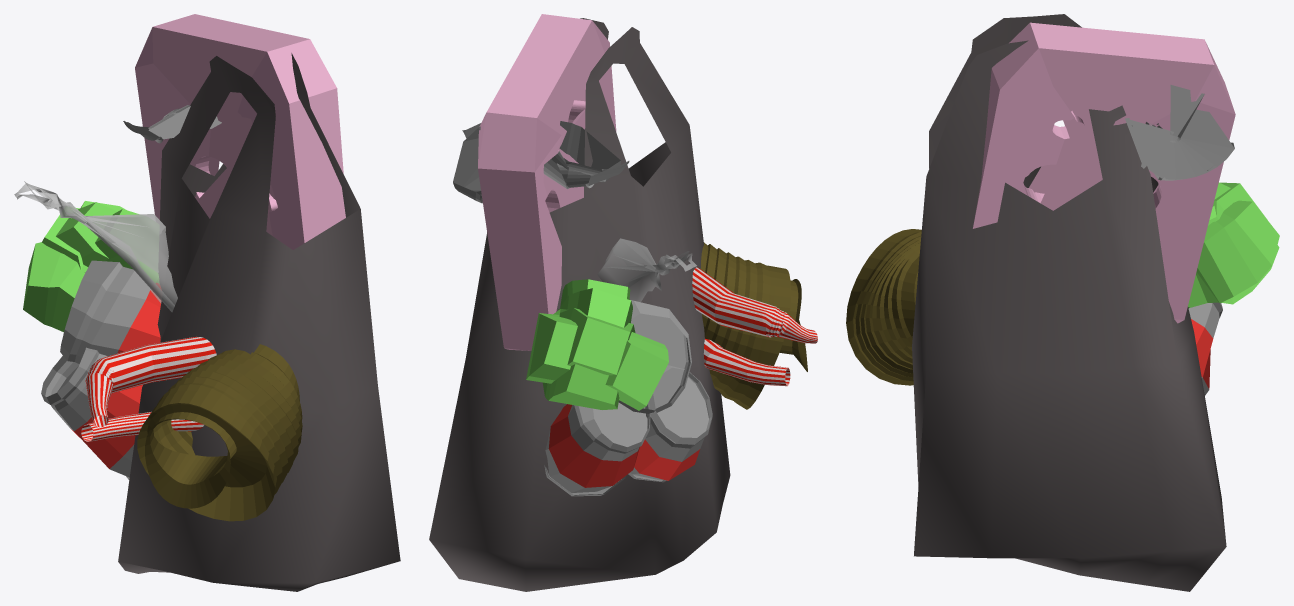
The model's file is saco do lixo podre 2.fbx.
The picture shows the model from 3 angles, left to right: view 1: azimuth 30°, elevation 25°; view 2: azimuth 150°, elevation 25°; view 3: azimuth 270°, elevation 25°; orthographic projection. The views are drawn at different scales.
Parts seen in each view (by area): view 1: Plane.000; view 2: Plane.000; view 3: Plane.000.
Boxes of the visible parts, x1,y1,x2,y2 form: Plane.000: [14, 14, 400, 591]; Plane.000: [429, 14, 817, 591]; Plane.000: [846, 14, 1279, 591].
Bounding box in the file's own units: 551 × 979 × 702.
